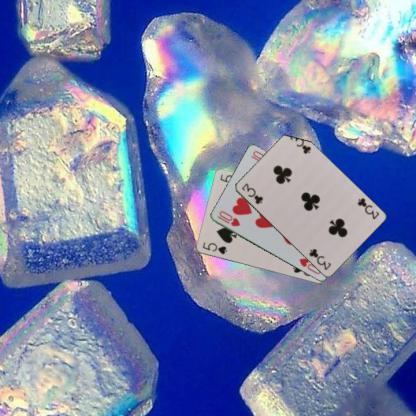10h: (214, 208, 241, 228)
3c: (239, 180, 264, 206), (355, 195, 380, 221)
5s: (200, 240, 228, 255)
